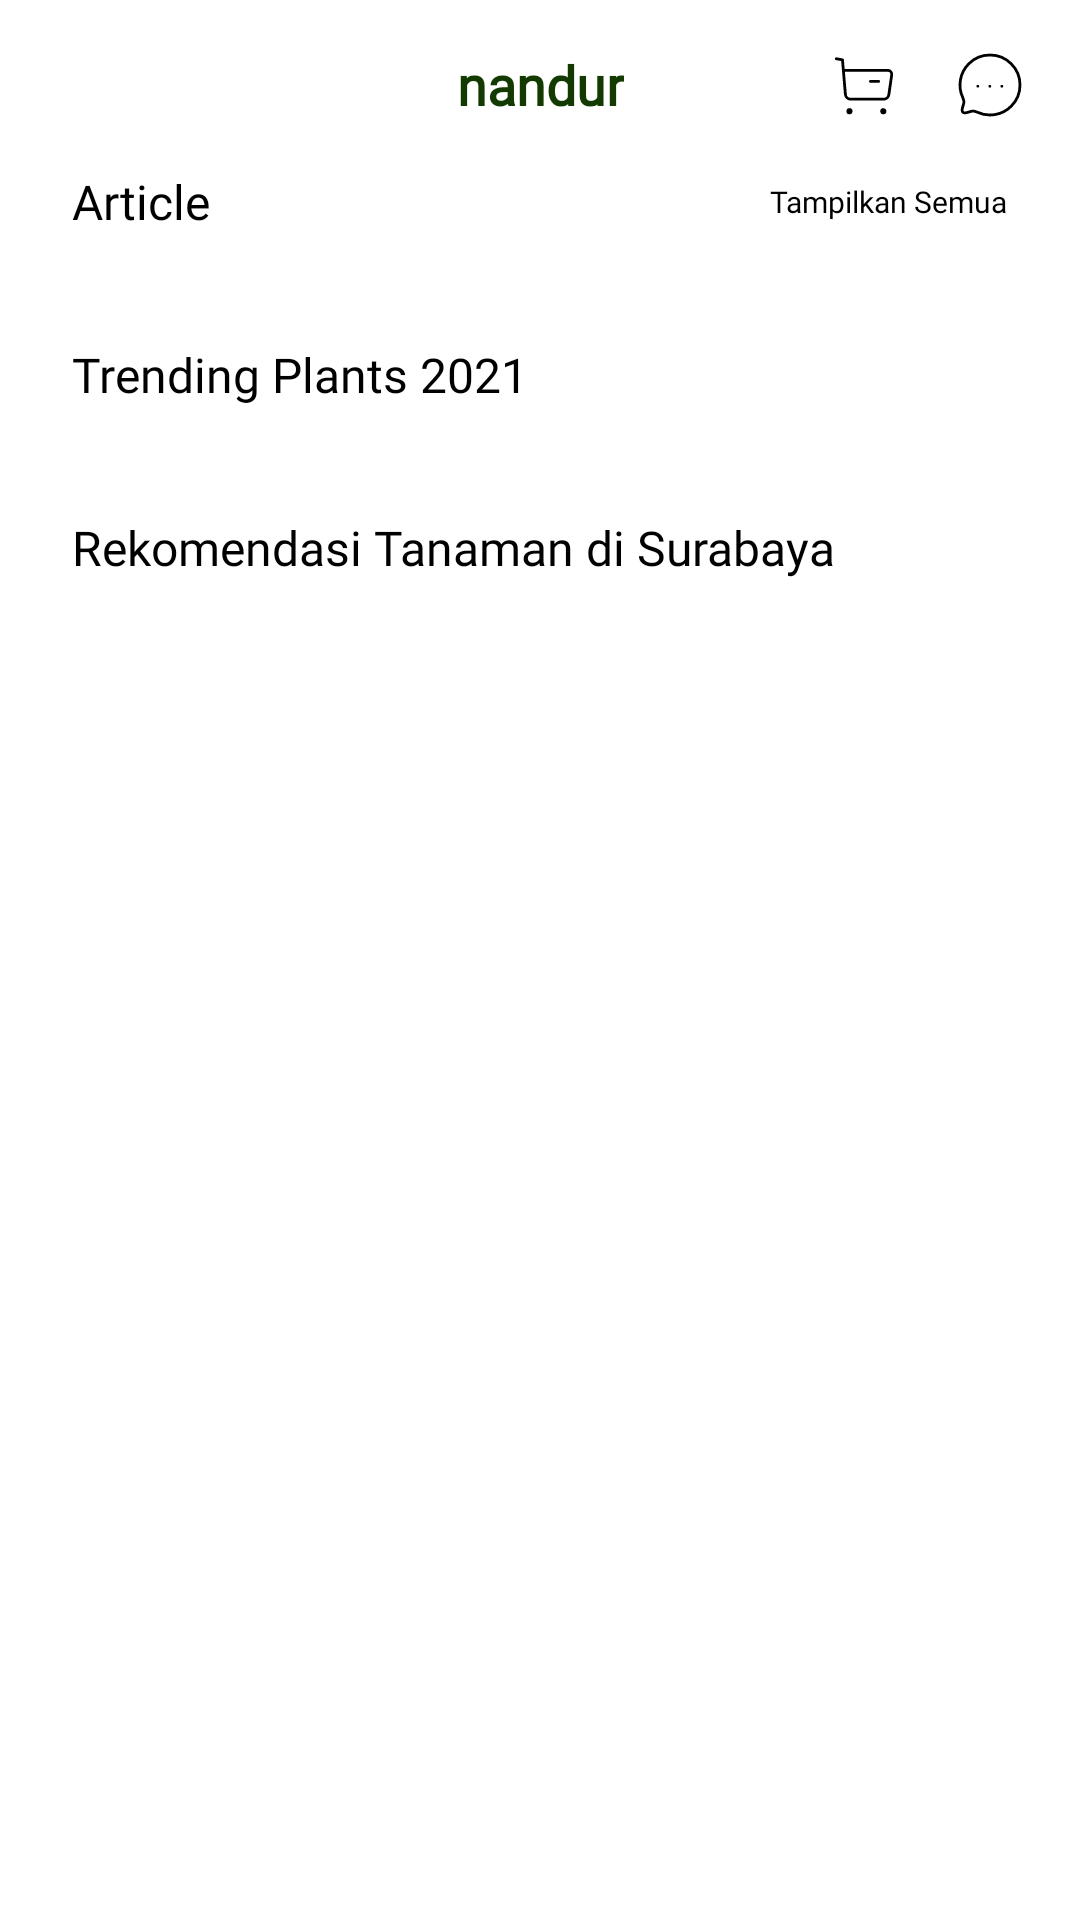

Icons on this 1080w x 1920h Android screen, each with its box as detection(x1, y1, x2, y2):
cart: detection(835, 57, 893, 115)
chat: detection(958, 53, 1022, 117)
